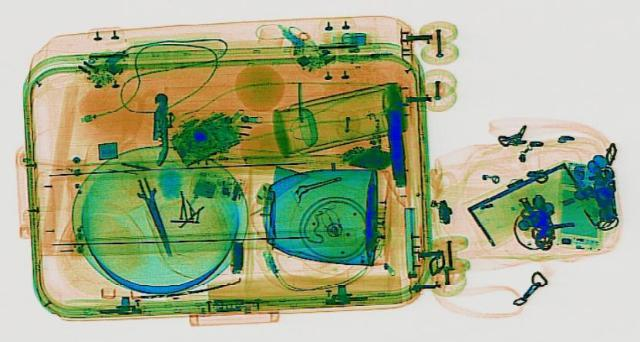Knife: (128, 174, 180, 255)
